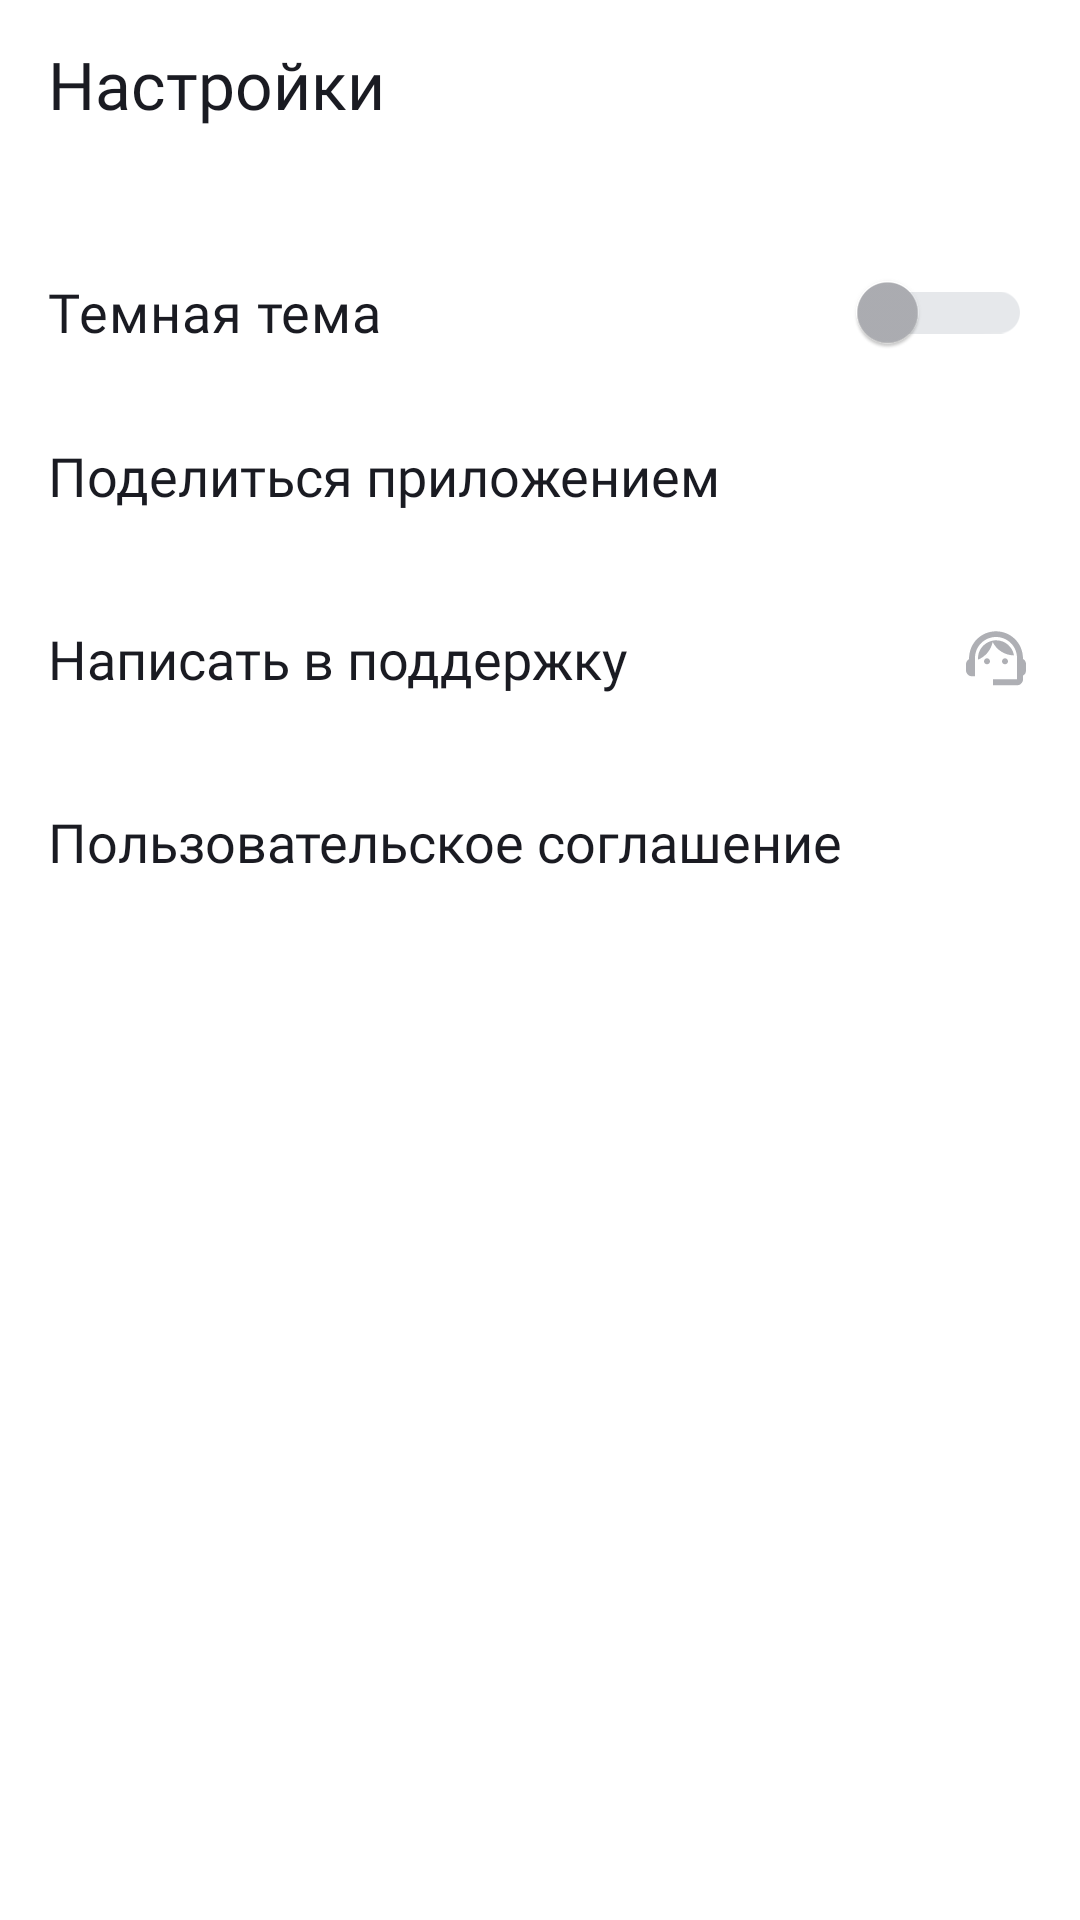

Where to tap for icons on this 1080 x 1920 app screen, as point (x, y):
support: point (996, 658)
